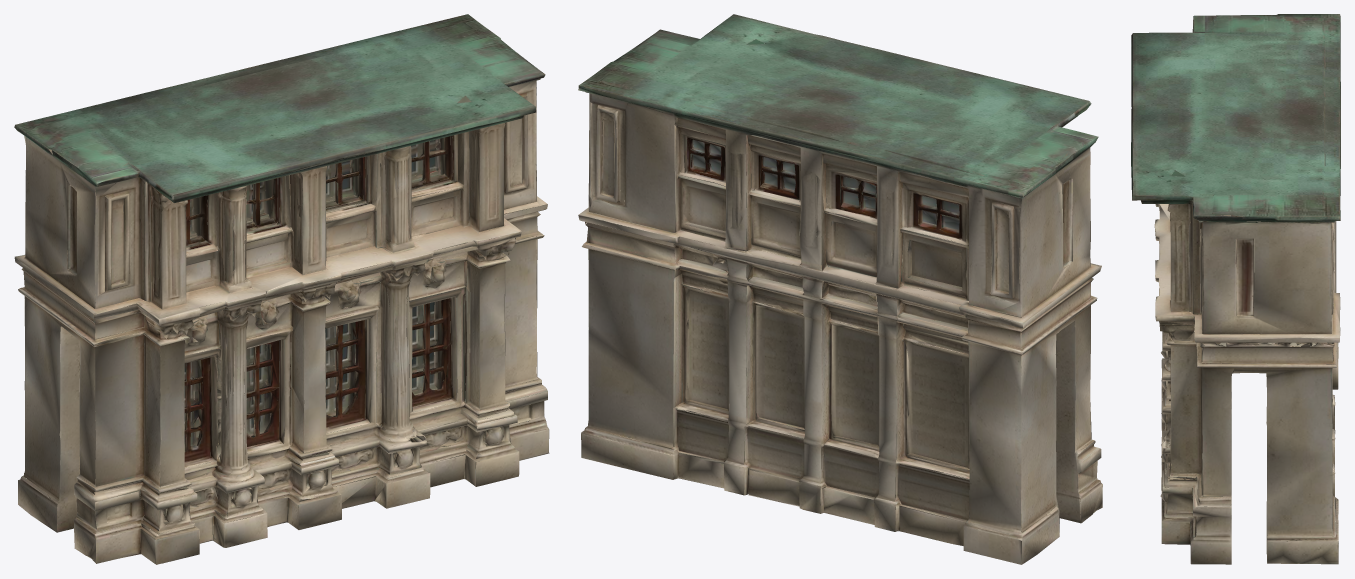
File: BankSIde.fbx
3 renders of one model, left to right at view 1: azimuth 30°, elevation 25°; view 2: azimuth 150°, elevation 25°; view 3: azimuth 270°, elevation 25°, orthographic. The views are drawn at different scales.
Parts seen in each view (by area): view 1: Mesh_0; view 2: Mesh_0; view 3: Mesh_0.
Part boxes in pixels (x1=…): Mesh_0: x1=14, y1=14, x2=549, y2=564; Mesh_0: x1=578, y1=14, x2=1102, y2=564; Mesh_0: x1=1131, y1=14, x2=1340, y2=564.
Bounding box in the file's own units: 191 × 154 × 83.49.
Materials: 1 (1 with a texture image).
